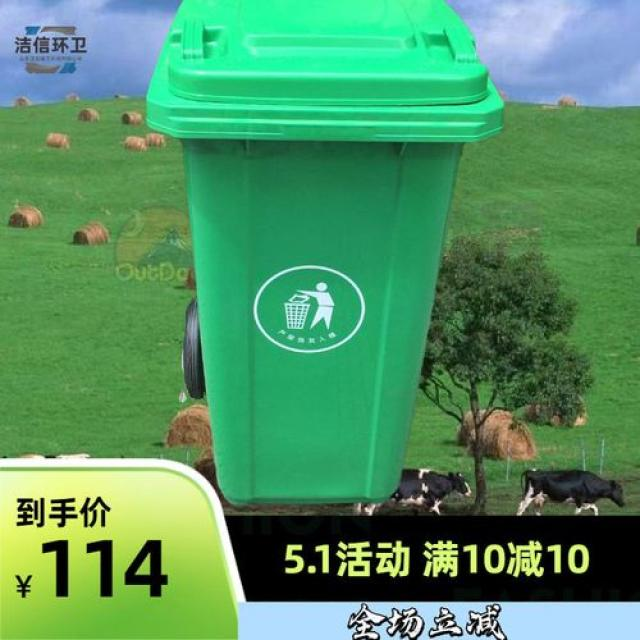garbage_bin: (143, 0, 501, 504)
